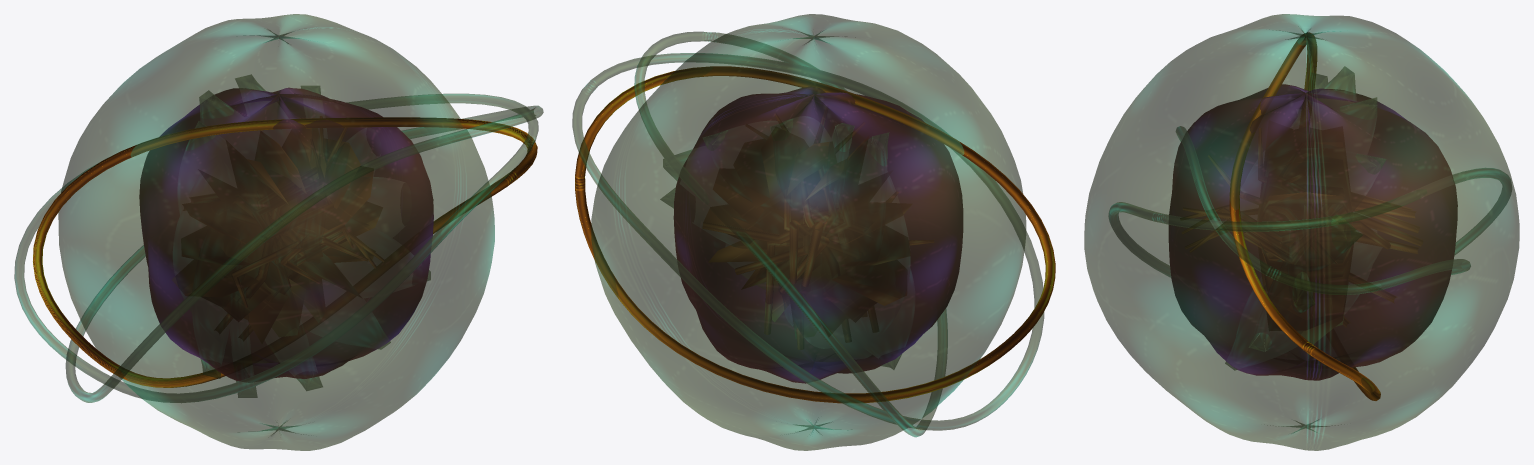
File: urai-orb-avatar-v1.glb
The picture shows the model from 3 angles, left to right: view 1: azimuth 30°, elevation 25°; view 2: azimuth 150°, elevation 25°; view 3: azimuth 270°, elevation 25°; orthographic projection.
Parts seen in each view (by area): view 1: orb-aura, orb-core, orb-orbit-c, orb-orbit-a, orb-orbit-b, orb-heart, orb-petal-5; view 2: orb-aura, orb-core, orb-orbit-a, orb-orbit-b, orb-orbit-c, orb-heart, orb-filament-10, orb-petal-6, orb-filament-7, orb-petal-5; view 3: orb-aura, orb-core, orb-orbit-c, orb-orbit-a, orb-orbit-b, orb-heart, orb-petal-2, orb-petal-4, orb-petal-5, orb-filament-9, orb-petal-1, orb-filament-5.
Part boxes in pixels (x1=…): orb-aura: x1=58, y1=14, x2=494, y2=450; orb-core: x1=139, y1=87, x2=433, y2=382; orb-orbit-c: x1=14, y1=93, x2=538, y2=402; orb-orbit-a: x1=33, y1=117, x2=537, y2=387; orb-orbit-b: x1=65, y1=105, x2=543, y2=402; orb-heart: x1=172, y1=129, x2=378, y2=342; orb-petal-5: x1=199, y1=90, x2=233, y2=118; orb-aura: x1=591, y1=14, x2=1026, y2=450; orb-core: x1=673, y1=86, x2=963, y2=383; orb-orbit-a: x1=575, y1=66, x2=1055, y2=403; orb-orbit-b: x1=572, y1=53, x2=1044, y2=430; orb-orbit-c: x1=634, y1=31, x2=947, y2=437; orb-heart: x1=704, y1=134, x2=911, y2=334; orb-filament-10: x1=703, y1=222, x2=933, y2=244; orb-petal-6: x1=866, y1=132, x2=888, y2=166; orb-filament-7: x1=802, y1=222, x2=822, y2=286; orb-petal-5: x1=832, y1=123, x2=854, y2=151; orb-aura: x1=1084, y1=14, x2=1519, y2=450; orb-core: x1=1168, y1=84, x2=1457, y2=380; orb-orbit-c: x1=1108, y1=168, x2=1511, y2=277; orb-orbit-a: x1=1229, y1=32, x2=1380, y2=400; orb-orbit-b: x1=1176, y1=126, x2=1470, y2=294; orb-heart: x1=1258, y1=121, x2=1352, y2=343; orb-petal-2: x1=1331, y1=214, x2=1362, y2=253; orb-petal-4: x1=1339, y1=97, x2=1376, y2=119; orb-petal-5: x1=1323, y1=66, x2=1355, y2=94; orb-filament-9: x1=1187, y1=205, x2=1422, y2=245; orb-petal-1: x1=1292, y1=272, x2=1314, y2=312; orb-filament-5: x1=1183, y1=208, x2=1417, y2=253.
Size of the model in its own units: 2.75 by 2.12 by 2.12.
4 materials, 4 textured.
